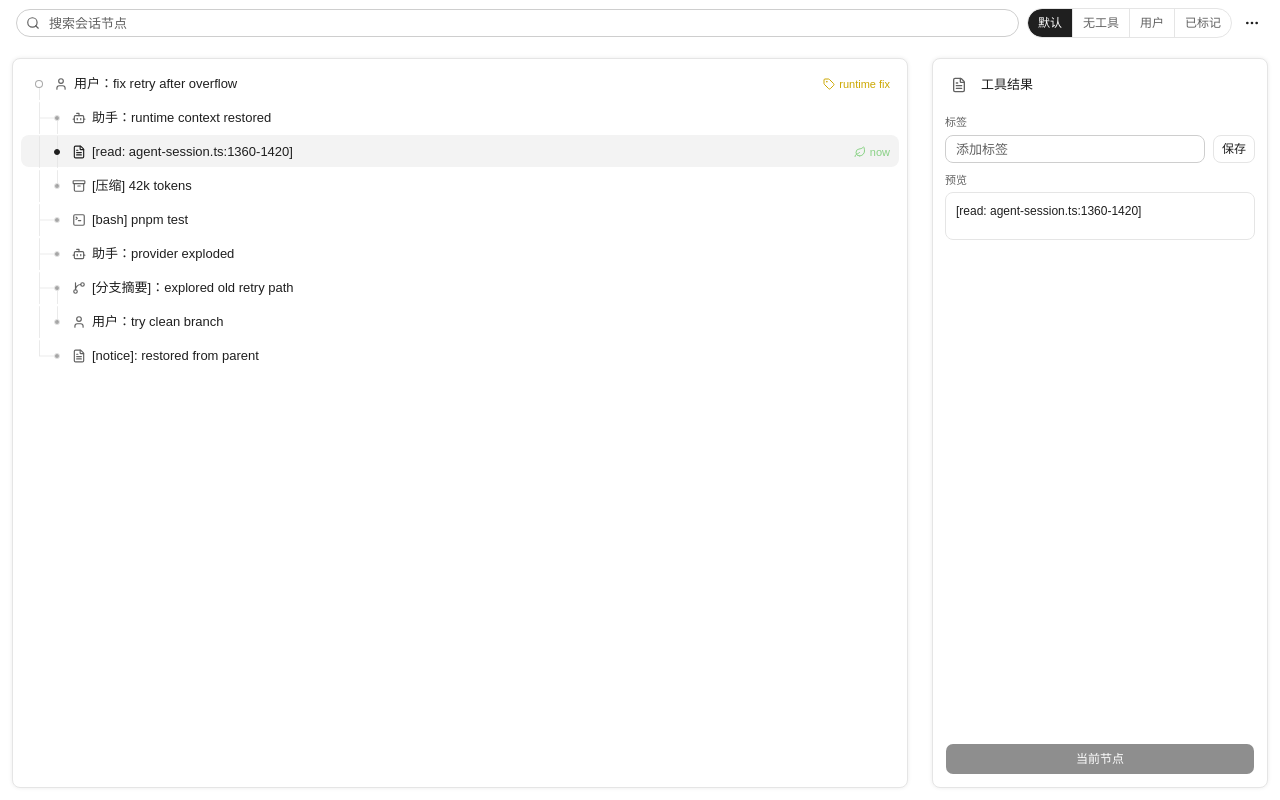
Test case: TreeApp › keeps only refresh and reveal actions in the toolbar menu
Press the mouse on the button named "更多会话树操作" at (1252, 23), box top-left (1240, 11), bottom-right (1264, 35)
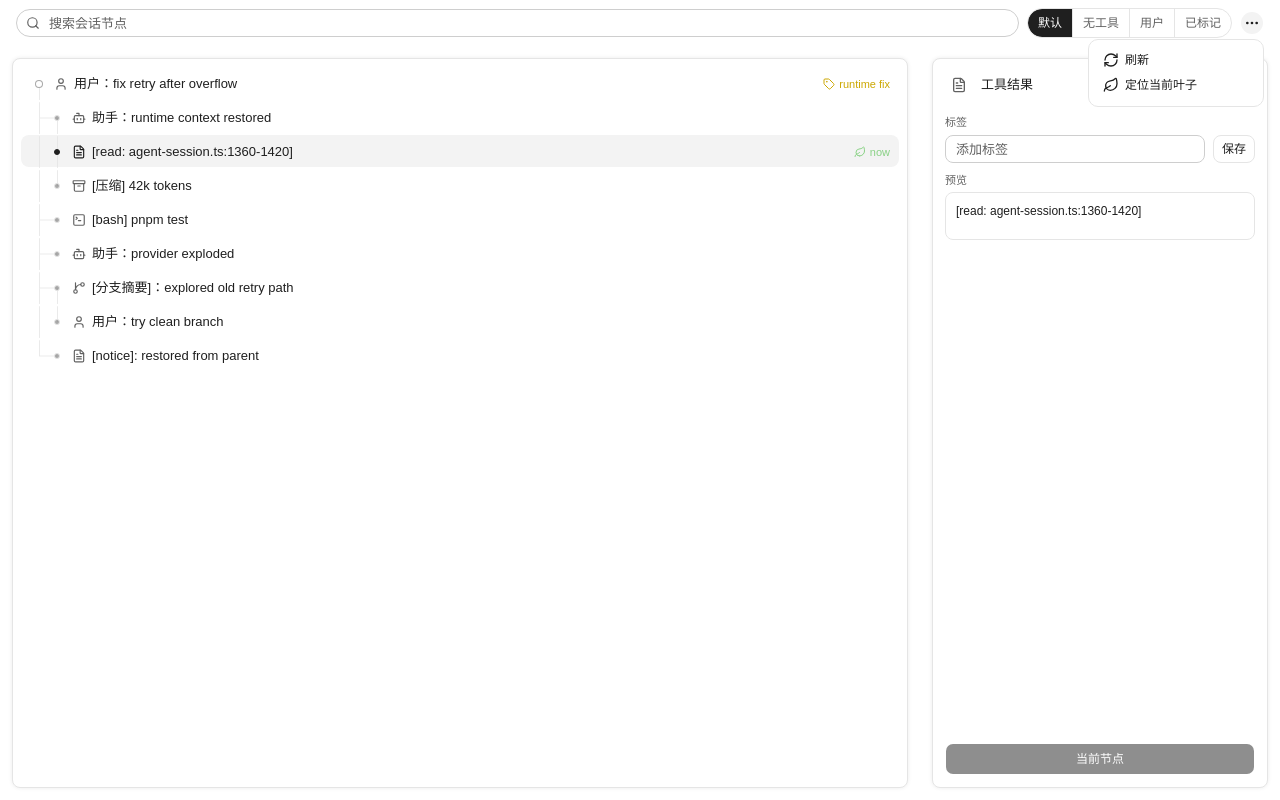
Now the text "刷新" is shown, box top-left (1125, 52), bottom-right (1149, 69)
Now the text "定位当前叶子" is shown, box top-left (1125, 77), bottom-right (1197, 94)
